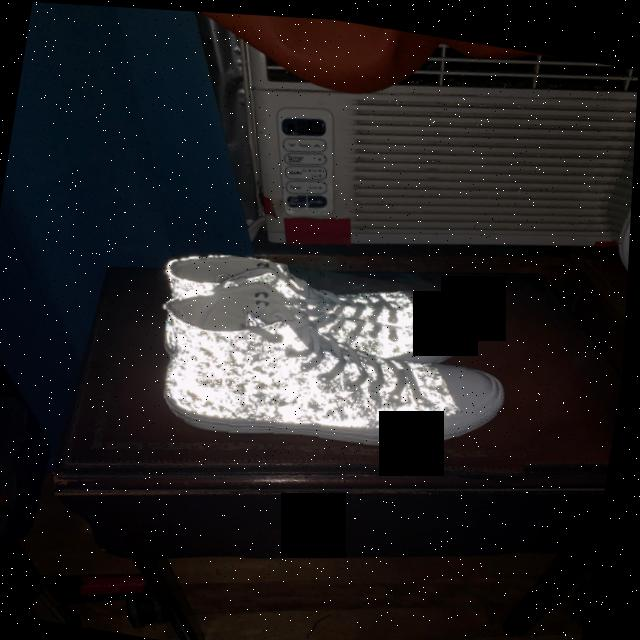shoe: (162, 282, 548, 480), (153, 241, 472, 352)
